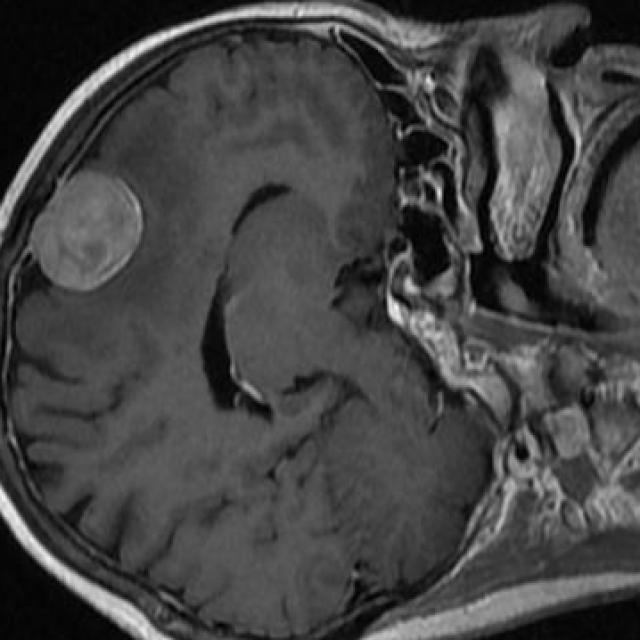meningioma: (30, 171, 144, 294)
